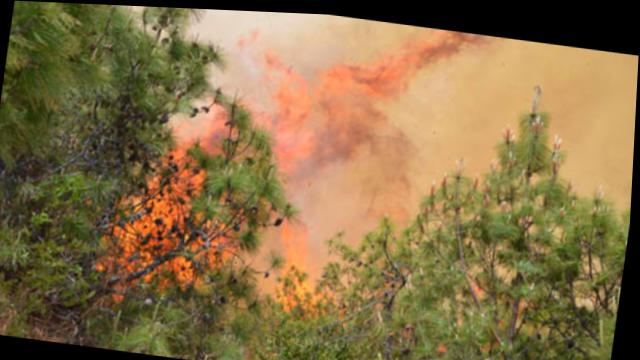fire: (100, 4, 482, 344)
